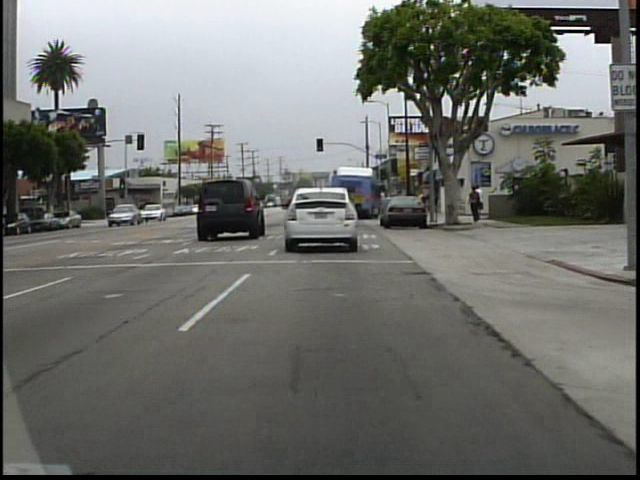person: (468, 183, 484, 225), (475, 182, 487, 222)
